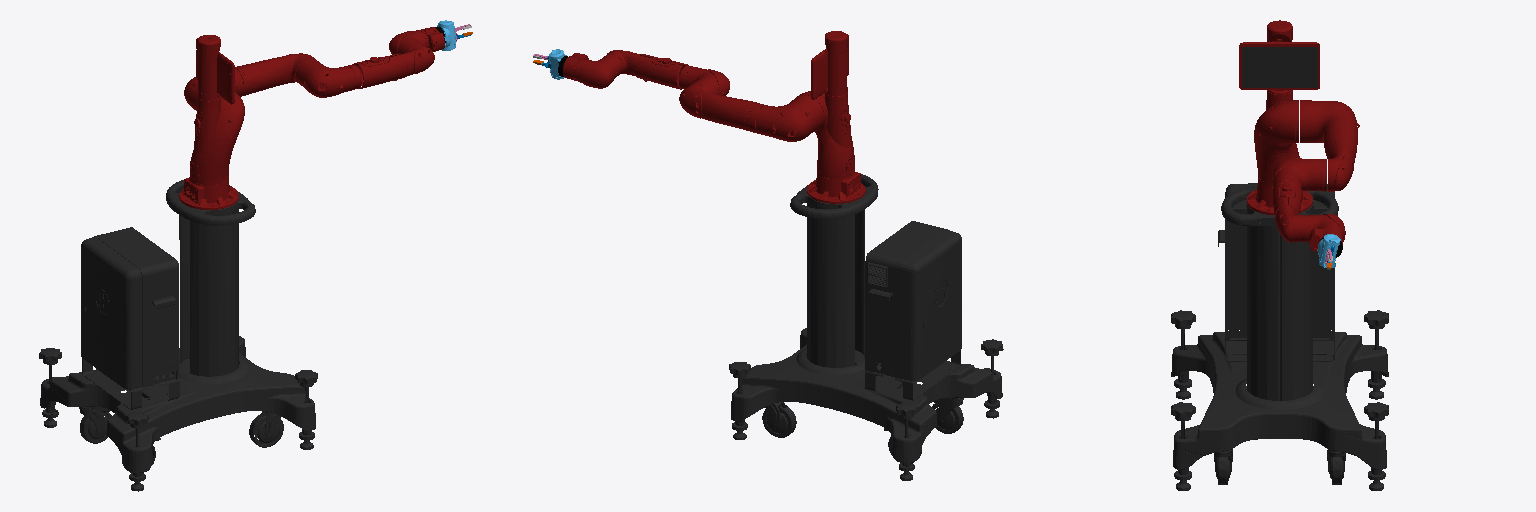
URDF robot description (sawyer):
<?xml version="1.0" ?>
<!-- =================================================================================== -->
<!-- |    This document was autogenerated by xacro from src/sawyer_robot/sawyer_description/urdf/sawyer.urdf.xacro | -->
<!-- |    EDITING THIS FILE BY HAND IS NOT RECOMMENDED                                 | -->
<!-- =================================================================================== -->
<robot name="sawyer">
  <material name="black">
    <color rgba="0 0 0 1"/>
  </material>
  <material name="darkgray">
    <color rgba=".2 .2 .2 1"/>
  </material>
  <material name="darkred">
    <color rgba=".5 .1 .1 1"/>
  </material>
  <material name="sawyer_red">
    <color rgba=".5 .1 .1 1"/>
  </material>
  <material name="sawyer_gray">
    <color rgba="0.75294 0.75294 0.75294 1"/>
  </material>
  <link name="base"/>
  <link name="torso">
    <visual>
      <origin rpy="0 0 0" xyz="0 0 0"/>
      <geometry>
        <box size="0.001 0.001 0.001"/>
      </geometry>
      <material name="darkgray">
        <color rgba=".2 .2 .2 1"/>
      </material>
    </visual>
    <inertial>
      <origin rpy="0 0 0" xyz="0.000000 0.000000 0.000000"/>
      <mass value="0.0001"/>
      <inertia ixx="1e-08" ixy="0" ixz="0" iyy="1e-08" iyz="0" izz="1e-08"/>
    </inertial>
  </link>
  <link name="pedestal">
    <visual>
      <origin rpy="1.57079632679 0 -1.57079632679" xyz="0.26 0.345 -0.91488"/>
      <geometry>
        <mesh filename="sawyer_description/meshes/sawyer_pv/pedestal.obj"/>
      </geometry>
      <material name="darkgray"/>
    </visual>
    <collision>
      <origin rpy="0 0 0" xyz="-0.02 0 -0.29"/>
      <geometry>
        <cylinder length="0.62" radius="0.18"/>
      </geometry>
    </collision>
    <inertial>
      <origin rpy="0 0 0" xyz="0 0 -0.5"/>
      <mass value="60.86397744"/>
      <inertia ixx="5.0635929" ixy="0.00103417" ixz="0.80199628" iyy="6.08689388" iyz="0.00105311" izz="4.96191932"/>
    </inertial>
  </link>
  <link name="controller_box">
    <collision>
      <origin rpy="0 0 0" xyz="-0.325 0 -0.38"/>
      <geometry>
        <box size="0.22 0.4 0.53"/>
      </geometry>
    </collision>
  </link>
  <joint name="controller_box_fixed" type="fixed">
    <origin rpy="0 0 0" xyz="0.0 0.0 0.0"/>
    <parent link="base"/>
    <child link="controller_box"/>
  </joint>
  <link name="pedestal_feet">
    <collision>
      <origin rpy="0 0 0" xyz="-0.1225 0 -0.758"/>
      <geometry>
        <box size="0.77 0.7 0.31"/>
      </geometry>
    </collision>
  </link>
  <joint name="pedestal_feet_fixed" type="fixed">
    <origin rpy="0 0 0" xyz="0.0 0.0 0.0"/>
    <parent link="base"/>
    <child link="pedestal_feet"/>
  </joint>
  <joint name="pedestal_fixed" type="fixed">
    <origin rpy="0 0 0" xyz="0.0 0.0 0.0"/>
    <parent link="base"/>
    <child link="pedestal"/>
  </joint>
  <joint name="right_arm_mount" type="fixed">
    <origin rpy="0 0 0" xyz="0.0 0.0 0.0"/>
    <parent link="base"/>
    <child link="right_arm_base_link"/>
  </joint>
  <joint name="torso_t0" type="fixed">
    <origin rpy="0 0 0" xyz="0 0 0"/>
    <parent link="base"/>
    <child link="torso"/>
  </joint>
  <link name="right_arm_base_link">
    <inertial>
      <origin rpy="0 0 0" xyz="-0.0006241 -2.8025E-05 0.065404"/>
      <mass value="2.0687"/>
      <inertia ixx="0.0067599" ixy="-4.2024E-05" ixz="-6.1904E-07" iyy="0.0067877" iyz="1.5888E-05" izz="0.0074031"/>
    </inertial>
    <visual>
      <origin rpy="0 0 0" xyz="0 0 0"/>
      <geometry>
        <mesh filename="sawyer_description/meshes/sawyer_pv/base.obj"/>
      </geometry>
      <material name="sawyer_red"/>
    </visual>
    <collision>
      <origin rpy="0 0 0" xyz="0 0 0.12"/>
      <geometry>
        <cylinder length="0.24" radius="0.08"/>
      </geometry>
    </collision>
  </link>
  <link name="right_l0">
    <inertial>
      <origin rpy="0 0 0" xyz="0.024366 0.010969 0.14363"/>
      <mass value="5.3213"/>
      <inertia ixx="0.053314" ixy="0.0047093" ixz="0.011734" iyy="0.057902" iyz="0.0080179" izz="0.023659"/>
    </inertial>
    <visual>
      <origin rpy="0 0 0" xyz="0 0 0"/>
      <geometry>
        <mesh filename="sawyer_description/meshes/sawyer_mp3/l0.obj"/>
      </geometry>
      <material name="sawyer_red"/>
    </visual>
    <collision>
      <origin rpy="0 0 0" xyz="0.08 0 0.23"/>
      <geometry>
        <sphere radius="0.07"/>
      </geometry>
    </collision>
  </link>
  <joint name="right_j0" type="revolute">
    <origin rpy="0 0 0" xyz="0 0 0.08"/>
    <parent link="right_arm_base_link"/>
    <child link="right_l0"/>
    <axis xyz="0 0 1"/>
    <limit effort="80.0" lower="-3.0503" upper="3.0503" velocity="1.74"/>
  </joint>
  <link name="head">
    <inertial>
      <origin rpy="0 0 0" xyz="0.0053207 -2.6549E-05 0.1021"/>
      <mass value="1.5795"/>
      <inertia ixx="0.011833" ixy="-4.4669E-06" ixz="4.9425E-05" iyy="0.0082709" iyz="4.2124E-07" izz="0.0049661"/>
    </inertial>
    <visual>
      <origin rpy="0 0 0" xyz="0 0 0"/>
      <geometry>
        <mesh filename="sawyer_description/meshes/sawyer_pv/head.obj"/>
      </geometry>
      <material name="sawyer_red"/>
    </visual>
    <collision>
      <origin rpy="0 0 0" xyz="0 0 0.08"/>
      <geometry>
        <sphere radius="0.18"/>
      </geometry>
    </collision>
  </link>
  <joint name="head_pan" type="revolute">
    <origin rpy="0 0 0" xyz="0 0 0.2965"/>
    <parent link="right_l0"/>
    <child link="head"/>
    <axis xyz="0 0 1"/>
    <limit effort="8" lower="-5.0952" upper="0.9064" velocity="1.8"/>
  </joint>
  <link name="right_torso_itb">
    <inertial>
      <origin rpy="0 0 0" xyz="0.000000 0.000000 0.000000"/>
      <mass value="0.0001"/>
      <inertia ixx="1e-08" ixy="0" ixz="0" iyy="1e-08" iyz="0" izz="1e-08"/>
    </inertial>
  </link>
  <joint name="right_torso_itb" type="fixed">
    <origin rpy="0 -1.57079632679 0" xyz="-.055 0 .22"/>
    <parent link="right_l0"/>
    <child link="right_torso_itb"/>
    <axis xyz="0 0 1"/>
  </joint>
  <link name="right_l1">
    <inertial>
      <origin rpy="0 0 0" xyz="-0.0030849 -0.026811 0.092521"/>
      <mass value="4.505"/>
      <inertia ixx="0.022398" ixy="-0.00023986" ixz="-0.00029362" iyy="0.014613" iyz="-0.0060875" izz="0.017295"/>
    </inertial>
    <visual>
      <origin rpy="0 0 0" xyz="0 0 0"/>
      <geometry>
        <mesh filename="sawyer_description/meshes/sawyer_mp3/l1.obj"/>
      </geometry>
      <material name="sawyer_red"/>
    </visual>
    <collision>
      <origin rpy="0 0 0" xyz="0 0 0.1225"/>
      <geometry>
        <sphere radius="0.07"/>
      </geometry>
    </collision>
  </link>
  <joint name="right_j1" type="revolute">
    <origin rpy="-1.57079632679 1.57079632679 0" xyz="0.081 0.05 0.237"/>
    <parent link="right_l0"/>
    <child link="right_l1"/>
    <axis xyz="0 0 1"/>
    <limit effort="80.0" lower="-3.8095" upper="2.2736" velocity="1.328"/>
  </joint>
  <link name="right_l2">
    <inertial>
      <origin rpy="0 0 0" xyz="-0.00016044 -0.014967 0.13582"/>
      <mass value="1.745"/>
      <inertia ixx="0.025506" ixy="4.4101E-06" ixz="1.4955E-05" iyy="0.0253" iyz="-0.0033204" izz="0.0034179"/>
    </inertial>
    <visual>
      <origin rpy="0 0 0" xyz="0 0 0"/>
      <geometry>
        <mesh filename="sawyer_description/meshes/sawyer_pv/l2.obj"/>
      </geometry>
      <material name="sawyer_red"/>
    </visual>
    <collision>
      <origin rpy="0 0 0" xyz="0 0 0.08"/>
      <geometry>
        <cylinder length="0.34" radius="0.06"/>
      </geometry>
    </collision>
  </link>
  <joint name="right_j2" type="revolute">
    <origin rpy="1.57079632679 0 0" xyz="0 -0.14 0.1425"/>
    <parent link="right_l1"/>
    <child link="right_l2"/>
    <axis xyz="0 0 1"/>
    <limit effort="40.0" lower="-3.0426" upper="3.0426" velocity="1.957"/>
  </joint>
  <link name="right_l3">
    <inertial>
      <origin rpy="0 0 0" xyz="-0.0048135 -0.0281 -0.084154"/>
      <mass value="2.5097"/>
      <inertia ixx="0.01016" ixy="-9.7452E-06" ixz="0.00026624" iyy="0.0065685" iyz="0.0030316" izz="0.0069078"/>
    </inertial>
    <visual>
      <origin rpy="0 0 0" xyz="0 0 0"/>
      <geometry>
        <mesh filename="sawyer_description/meshes/sawyer_pv/l3.obj"/>
      </geometry>
      <material name="sawyer_red"/>
    </visual>
    <collision>
      <origin rpy="0 0 0" xyz="0 -0.01 -0.12"/>
      <geometry>
        <sphere radius="0.06"/>
      </geometry>
    </collision>
  </link>
  <joint name="right_j3" type="revolute">
    <origin rpy="-1.57079632679 0 0" xyz="0 -0.042 0.26"/>
    <parent link="right_l2"/>
    <child link="right_l3"/>
    <axis xyz="0 0 1"/>
    <limit effort="40.0" lower="-3.0439" upper="3.0439" velocity="1.957"/>
  </joint>
  <link name="right_l4">
    <inertial>
      <origin rpy="0 0 0" xyz="-0.0018844 0.0069001 0.1341"/>
      <mass value="1.1136"/>
      <inertia ixx="0.013557" ixy="1.8109E-05" ixz="0.00013523" iyy="0.013555" iyz="0.0010561" izz="0.0013658"/>
    </inertial>
    <visual>
      <origin rpy="0 0 0" xyz="0 0 0"/>
      <geometry>
        <mesh filename="sawyer_description/meshes/sawyer_pv/l4.obj"/>
      </geometry>
      <material name="sawyer_red"/>
    </visual>
    <collision>
      <origin rpy="0 0 0" xyz="0 0 0.11"/>
      <geometry>
        <cylinder length="0.30" radius="0.045"/>
      </geometry>
    </collision>
  </link>
  <joint name="right_j4" type="revolute">
    <origin rpy="1.57079632679 0 0" xyz="0 -0.125 -0.1265"/>
    <parent link="right_l3"/>
    <child link="right_l4"/>
    <axis xyz="0 0 1"/>
    <limit effort="9.0" lower="-2.9761" upper="2.9761" velocity="3.485"/>
  </joint>
  <link name="right_arm_itb">
    <inertial>
      <origin rpy="0 0 0" xyz="0.000000 0.000000 0.000000"/>
      <mass value="0.0001"/>
      <inertia ixx="1e-08" ixy="0" ixz="0" iyy="1e-08" iyz="0" izz="1e-08"/>
    </inertial>
  </link>
  <joint name="right_arm_itb" type="fixed">
    <origin rpy="0 -1.57079632679 0" xyz="-.055 0 .075"/>
    <parent link="right_l4"/>
    <child link="right_arm_itb"/>
    <axis xyz="0 0 1"/>
  </joint>
  <link name="right_l5">
    <inertial>
      <origin rpy="0 0 0" xyz="0.0061133 -0.023697 0.076416"/>
      <mass value="1.5625"/>
      <inertia ixx="0.0047328" ixy="0.00011526" ixz="4.6269E-05" iyy="0.0029676" iyz="-0.0011557" izz="0.0031762"/>
    </inertial>
    <visual>
      <origin rpy="0 0 0" xyz="0 0 0"/>
      <geometry>
        <mesh filename="sawyer_description/meshes/sawyer_pv/l5.obj"/>
      </geometry>
      <material name="sawyer_red"/>
    </visual>
    <collision>
      <origin rpy="0 0 0" xyz="0 0 0.1"/>
      <geometry>
        <sphere radius="0.06"/>
      </geometry>
    </collision>
  </link>
  <joint name="right_j5" type="revolute">
    <origin rpy="-1.57079632679 0 0" xyz="0 0.031 0.275"/>
    <parent link="right_l4"/>
    <child link="right_l5"/>
    <axis xyz="0 0 1"/>
    <limit effort="9.0" lower="-2.9761" upper="2.9761" velocity="3.485"/>
  </joint>
  <link name="right_hand_camera"/>
  <joint name="right_hand_camera" type="fixed">
    <origin rpy="0 1.57079632679 0" xyz="0.039552 -0.033 0.0695"/>
    <parent link="right_l5"/>
    <child link="right_hand_camera"/>
    <axis xyz="0 0 0"/>
  </joint>
  <link name="right_wrist"/>
  <joint name="right_wrist" type="fixed">
    <origin rpy="1.57079632679 0 0" xyz="0 0 0.10541"/>
    <parent link="right_l5"/>
    <child link="right_wrist"/>
    <axis xyz="0 0 0"/>
  </joint>
  <link name="right_l6">
    <inertial>
      <origin rpy="0 0 0" xyz="-8.0726E-06 0.0085838 -0.0049566"/>
      <mass value="0.3292"/>
      <inertia ixx="0.00031105" ixy="1.4771E-06" ixz="-3.7074E-07" iyy="0.00021549" iyz="-8.4533E-06" izz="0.00035976"/>
    </inertial>
    <visual>
      <origin rpy="0 0 0" xyz="0 0 0"/>
      <geometry>
        <mesh filename="sawyer_description/meshes/sawyer_mp1/l6.obj"/>
      </geometry>
      <material name="sawyer_red"/>
    </visual>
    <collision>
      <origin rpy="0 0 0" xyz="0 0.015 -0.01"/>
      <geometry>
        <cylinder length="0.05" radius="0.055"/>
      </geometry>
    </collision>
  </link>
  <joint name="right_j6" type="revolute">
    <origin rpy="-1.57079632679 -0.17453 3.1416" xyz="0 -0.11 0.1053"/>
    <parent link="right_l5"/>
    <child link="right_l6"/>
    <axis xyz="0 0 1"/>
    <limit effort="9.0" lower="-4.7124" upper="4.7124" velocity="4.545"/>
  </joint>
  <link name="right_hand">
    <collision>
      <origin rpy="0 0 0" xyz="0 0 0.02"/>
      <geometry>
        <cylinder length="0.03" radius="0.035"/>
      </geometry>
    </collision>
    <inertial>
      <origin rpy="0 0 0" xyz="1.0E-08 1.0E-08 1.0E-08"/>
      <mass value="1.0E-08"/>
      <inertia ixx="1.0E-08" ixy="1.0E-08" ixz="1.0E-08" iyy="1.0E-08" iyz="1.0E-08" izz="1.0E-08"/>
    </inertial>
  </link>
  <joint name="right_hand" type="fixed">
    <origin rpy="0 0 1.570796" xyz="0 0 0.0245"/>
    <axis xyz="0 0 1"/>
    <parent link="right_l6"/>
    <child link="right_hand"/>
  </joint>
  <link name="right_l1_2">
    <inertial>
      <origin rpy="0 0 0" xyz="1.0E-08 1.0E-08 1.0E-08"/>
      <mass value="1.0E-08"/>
      <inertia ixx="1.0E-08" ixy="1.0E-08" ixz="1.0E-08" iyy="1.0E-08" iyz="1.0E-08" izz="1.0E-08"/>
    </inertial>
    <collision>
      <origin rpy="0 0 0" xyz="0 0 0.035"/>
      <geometry>
        <cylinder length="0.14" radius="0.07"/>
      </geometry>
    </collision>
  </link>
  <joint name="right_j1_2" type="fixed">
    <origin rpy="0 0 0" xyz="0 0 0"/>
    <parent link="right_l1"/>
    <child link="right_l1_2"/>
    <axis xyz="0 0 1"/>
  </joint>
  <link name="right_l2_2">
    <inertial>
      <origin rpy="0 0 0" xyz="1.0E-08 1.0E-08 1.0E-08"/>
      <mass value="1.0E-08"/>
      <inertia ixx="1.0E-08" ixy="1.0E-08" ixz="1.0E-08" iyy="1.0E-08" iyz="1.0E-08" izz="1.0E-08"/>
    </inertial>
    <collision>
      <origin rpy="0 0 0" xyz="0 0 0.26"/>
      <geometry>
        <sphere radius="0.06"/>
      </geometry>
    </collision>
  </link>
  <joint name="right_j2_2" type="fixed">
    <origin rpy="0 0 0" xyz="0 0 0"/>
    <parent link="right_l2"/>
    <child link="right_l2_2"/>
    <axis xyz="0 0 1"/>
  </joint>
  <link name="right_l4_2">
    <inertial>
      <origin rpy="0 0 0" xyz="1.0E-08 1.0E-08 1.0E-08"/>
      <mass value="1.0E-08"/>
      <inertia ixx="1.0E-08" ixy="1.0E-08" ixz="1.0E-08" iyy="1.0E-08" iyz="1.0E-08" izz="1.0E-08"/>
    </inertial>
    <collision>
      <origin rpy="0 0 0" xyz="0 0.01 0.26"/>
      <geometry>
        <sphere radius="0.06"/>
      </geometry>
    </collision>
  </link>
  <joint name="right_j4_2" type="fixed">
    <origin rpy="0 0 0" xyz="0 0 0"/>
    <parent link="right_l4"/>
    <child link="right_l4_2"/>
    <axis xyz="0 0 1"/>
  </joint>
  <link name="screen">
    <visual>
      <origin rpy="0 0 0" xyz="0 0 0"/>
      <geometry>
        <box size="0.24 0.14 0.002"/>
      </geometry>
      <material name="darkgray"/>
    </visual>
    <collision>
      <origin rpy="0 0 0" xyz="0 0 0"/>
      <geometry>
        <sphere radius="0.001"/>
      </geometry>
    </collision>
    <inertial>
      <origin rpy="0 0 0" xyz="0 0 0"/>
      <mass value="0.0001"/>
      <inertia ixx="1e-08" ixy="0" ixz="0" iyy="1e-08" iyz="0" izz="1e-08"/>
    </inertial>
  </link>
  <joint name="display_joint" type="fixed">
    <origin rpy="1.57079632679 0 1.57079632679" xyz="0.03 0.0 0.105"/>
    <parent link="head"/>
    <child link="screen"/>
  </joint>
  <link name="head_camera"/>
  <joint name="head_camera" type="fixed">
    <origin rpy="-2.1293 0 -1.57079632679" xyz="0.0228027 0 0.216572"/>
    <parent link="head"/>
    <child link="head_camera"/>
    <axis xyz="0 0 0"/>
  </joint>
  <!-- Base of whole end effector - (Connector Plate + Electric Gripper + Fingers + Tips) -->
  <link name="right_gripper_base">
    <inertial>
      <!-- Sum Gripper Mass - for whole end effector, measured from end of plastic cuff -->
      <mass value="0.47"/>
      <origin rpy="0 0 0" xyz="0.0028 -0.0004 0.0343"/>
      <inertia ixx="1e-08" ixy="0" ixz="0" iyy="1e-08" iyz="0" izz="1e-08"/>
    </inertial>
  </link>
  <!-- Electric Gripper Base Link -->
  <link name="right_electric_gripper_base">
    <visual>
      <origin rpy="0 0 0" xyz="0 0 0"/>
      <geometry>
        <mesh filename="intera_tools_description/meshes/electric_gripper/electric_gripper_base.obj"/>
      </geometry>
    </visual>
    <collision>
      <origin rpy="-1.5707963267948966 3.141592653589793 0" xyz="0.004 0.0 0.025"/>
      <geometry>
        <cylinder length="0.1" radius="0.029"/>
      </geometry>
      <material name="darkred">
        <color rgba=".5 .1 .1 1"/>
      </material>
    </collision>
    <inertial>
      <origin rpy="-1.5707963267948966 3.141592653589793 0" xyz="0.0 0.0 0.0"/>
      <mass value="2e-06"/>
      <inertia ixx="1.1e-09" ixy="0" ixz="0" iyy="1.1e-09" iyz="0" izz="1.1e-09"/>
    </inertial>
  </link>
  <!-- Connector Plate Joint -->
  <joint name="right_connector_plate_base_joint" type="fixed">
    <origin rpy="0 0 0" xyz="0 0 0.0018"/>
    <parent link="right_gripper_base"/>
    <child link="right_connector_plate_base"/>
  </joint>
  <link name="right_connector_plate_base">
    <inertial>
      <origin rpy="0 0 0" xyz="0 0 0"/>
      <mass value="0.0"/>
      <inertia ixx="6.9922E-05" ixy="6.1026E-08" ixz="-1.7042E-06" iyy="6.8188E-05" iyz="-1.6118E-08" izz="0.00012392"/>
    </inertial>
    <visual>
      <origin rpy="0 0 0" xyz="0 0 0"/>
      <geometry>
        <mesh filename="intera_tools_description/meshes/connector_plate/connector_plate.obj"/>
      </geometry>
      <material name="black">
        <color rgba="0.05 0.05 0.05 1"/>
      </material>
    </visual>
    <collision>
      <origin rpy="0 0 0" xyz="0 0 0.0135"/>
      <geometry>
        <cylinder length="0.0302" radius="0.04"/>
      </geometry>
      <material name="darkred">
        <color rgba=".5 .1 .1 1"/>
      </material>
    </collision>
  </link>
  <link name="right_connector_plate_mount"/>
  <joint name="right_connector_plate_mount_joint" type="fixed">
    <origin rpy="0 0 0" xyz="0 0 0.0176"/>
    <parent link="right_connector_plate_base"/>
    <child link="right_connector_plate_mount"/>
  </joint>
  <!-- Electric Gripper Base joint -->
  <joint name="right_electric_gripper_base_joint" type="fixed">
    <origin rpy="0 0 0" xyz="0 0 0"/>
    <parent link="right_connector_plate_mount"/>
    <child link="right_electric_gripper_base"/>
  </joint>
  <link name="right_gripper_l_finger">
    <visual>
      <origin rpy="0 0 -3.141592653589793" xyz="0 0 0"/>
      <geometry>
        <mesh filename="intera_tools_description/meshes/electric_gripper/fingers/standard_narrow.obj"/>
      </geometry>
    </visual>
    <collision>
      <origin rpy="0 0 -3.141592653589793" xyz="0 0.01725 0.04"/>
      <geometry>
        <box size="0.01 0.0135 0.075"/>
      </geometry>
    </collision>
    <collision>
      <origin rpy="0 0 -3.141592653589793" xyz="-0.005 -0.003 0.0083"/>
      <geometry>
        <box size="0.01 0.05 0.017"/>
      </geometry>
    </collision>
    <inertial>
      <origin rpy="0 0 -3.141592653589793" xyz="0 0 0"/>
      <mass value="0.001"/>
      <inertia ixx="0.01" ixy="0" ixz="0" iyy="0.01" iyz="0" izz="0.01"/>
    </inertial>
  </link>
  <link name="right_gripper_l_finger_tip">
    <visual>
      <origin rpy="0 0 3.141592653589793" xyz="0 0 0"/>
      <geometry>
        <mesh filename="intera_tools_description/meshes/electric_gripper/fingers/basic_soft_tip.obj"/>
      </geometry>
    </visual>
    <collision>
      <origin rpy="0 0 3.141592653589793" xyz="0 -0.0045 -0.015"/>
      <geometry>
        <box size="0.016 0.007 0.037"/>
      </geometry>
    </collision>
    <inertial>
      <origin rpy="0 0 3.141592653589793" xyz="0 0 0"/>
      <mass value="0.001"/>
      <inertia ixx="0.01" ixy="0" ixz="0" iyy="0.01" iyz="0" izz="0.01"/>
    </inertial>
  </link>
  <joint name="right_gripper_l_finger_tip_joint" type="fixed">
    <origin rpy="0 0 0" xyz="0.0 0.01725 0.075"/>
    <parent link="right_gripper_l_finger"/>
    <child link="right_gripper_l_finger_tip"/>
  </joint>
  <link name="right_gripper_r_finger">
    <visual>
      <origin rpy="0 0 -0.0" xyz="0 0 0"/>
      <geometry>
        <mesh filename="intera_tools_description/meshes/electric_gripper/fingers/standard_narrow.obj"/>
      </geometry>
    </visual>
    <collision>
      <origin rpy="0 0 -0.0" xyz="0 -0.01725 0.04"/>
      <geometry>
        <box size="0.01 0.0135 0.075"/>
      </geometry>
    </collision>
    <collision>
      <origin rpy="0 0 -0.0" xyz="0.005 0.003 0.0083"/>
      <geometry>
        <box size="0.01 0.05 0.017"/>
      </geometry>
    </collision>
    <inertial>
      <origin rpy="0 0 -0.0" xyz="0 0 0"/>
      <mass value="0.001"/>
      <inertia ixx="0.01" ixy="0" ixz="0" iyy="0.01" iyz="0" izz="0.01"/>
    </inertial>
  </link>
  <link name="right_gripper_r_finger_tip">
    <visual>
      <origin rpy="0 0 0.0" xyz="0 0 0"/>
      <geometry>
        <mesh filename="intera_tools_description/meshes/electric_gripper/fingers/basic_soft_tip.obj"/>
      </geometry>
    </visual>
    <collision>
      <origin rpy="0 0 0.0" xyz="0 0.0045 -0.015"/>
      <geometry>
        <box size="0.016 0.007 0.037"/>
      </geometry>
    </collision>
    <inertial>
      <origin rpy="0 0 0.0" xyz="0 0 0"/>
      <mass value="0.001"/>
      <inertia ixx="0.01" ixy="0" ixz="0" iyy="0.01" iyz="0" izz="0.01"/>
    </inertial>
  </link>
  <joint name="right_gripper_r_finger_tip_joint" type="fixed">
    <origin rpy="0 0 0" xyz="0.0 -0.01725 0.075"/>
    <parent link="right_gripper_r_finger"/>
    <child link="right_gripper_r_finger_tip"/>
  </joint>
  <joint name="right_gripper_base_joint" type="fixed">
    <origin rpy="0 0 0" xyz="0 0 -0.005"/>
    <parent link="right_hand"/>
    <child link="right_gripper_base"/>
  </joint>
  <joint name="right_gripper_tip_joint" type="fixed">
    <origin rpy="0 0 0" xyz="0 0 0.14062"/>
    <parent link="right_gripper_base"/>
    <child link="right_gripper_tip"/>
  </joint>
  <!-- Electric Gripper Tip link -->
  <link name="right_gripper_tip">
    <inertial>
      <origin rpy="0 0 0" xyz="0 0 0"/>
      <mass value="2e-06"/>
      <inertia ixx="1.1e-09" ixy="0" ixz="0" iyy="1.1e-09" iyz="0" izz="1.1e-09"/>
    </inertial>
  </link>
  <joint name="right_gripper_l_finger_joint" type="prismatic">
    <origin rpy="0 0 0" xyz="0.003 -0.0014999999999999996 0.04552"/>
    <axis xyz="0 1 0"/>
    <parent link="right_electric_gripper_base"/>
    <child link="right_gripper_l_finger"/>
    <limit effort="20.0" lower="0.0" upper="0.020833" velocity="5.0"/>
    <dynamics damping="100.0" friction="500.0"/>
  </joint>
  <joint name="right_gripper_r_finger_joint" type="prismatic">
    <origin rpy="0 0 0" xyz="0.003 0.0014999999999999996 0.04552"/>
    <axis xyz="0 1 0"/>
    <parent link="right_electric_gripper_base"/>
    <child link="right_gripper_r_finger"/>
    <limit effort="20.0" lower="-0.020833" upper="0.0" velocity="5.0"/>
    <mimic joint="right_gripper_l_finger_joint" multiplier="-1.0"/>
    <dynamics damping="100.0" friction="500.0"/>
  </joint>
</robot>

--- What the picture shows (computed from the rendered views, not written in the file) ---
Views: 3 orthographic renders of the robot side by side, from view 1: azimuth 30°, elevation 25°; view 2: azimuth 150°, elevation 25°; view 3: azimuth 270°, elevation 25°.
Robot: sawyer — 33 links, 32 joints (8 revolute, 2 prismatic, 22 fixed); root link base; default pose: all joints at 0.
Visible links, largest first — view 1: pedestal, right_l0, head, right_l4, right_l3, right_l2, right_arm_base_link, right_l5; view 2: pedestal, right_l0, right_l1, head, right_l2, right_l4, right_arm_base_link, right_l5, right_l3; view 3: pedestal, screen, right_l0, right_l1, right_l2, right_l3, right_l4, head, right_arm_base_link, right_l5.
Boxes of the visible links, x1,y1,x2,y2 form: pedestal: (39, 180, 317, 491); right_l0: (190, 92, 244, 184); head: (196, 35, 234, 104); right_l4: (354, 45, 434, 88); right_l3: (294, 57, 361, 97); right_l2: (235, 53, 313, 96); right_arm_base_link: (179, 177, 238, 209); right_l5: (389, 30, 428, 55); pedestal: (729, 174, 1003, 480); right_l0: (800, 91, 854, 178); right_l1: (748, 94, 825, 141); head: (811, 31, 848, 99); right_l2: (679, 84, 757, 131); right_l4: (607, 50, 687, 89); right_arm_base_link: (807, 167, 865, 203); right_l5: (575, 54, 622, 88); right_l3: (679, 65, 729, 109); pedestal: (1171, 183, 1388, 490); screen: (1242, 47, 1317, 87); right_l0: (1254, 90, 1299, 186); right_l1: (1296, 100, 1359, 142); right_l2: (1324, 125, 1357, 191); right_l3: (1272, 158, 1326, 202); right_l4: (1273, 180, 1301, 242); head: (1239, 20, 1319, 94); right_arm_base_link: (1247, 180, 1312, 214); right_l5: (1300, 214, 1345, 241).
Bounding box of the posed robot: 1.66 × 0.6859 × 1.54 m (x, y, z).
16 mesh visuals loaded from 14 distinct referenced files (14 OBJ).
